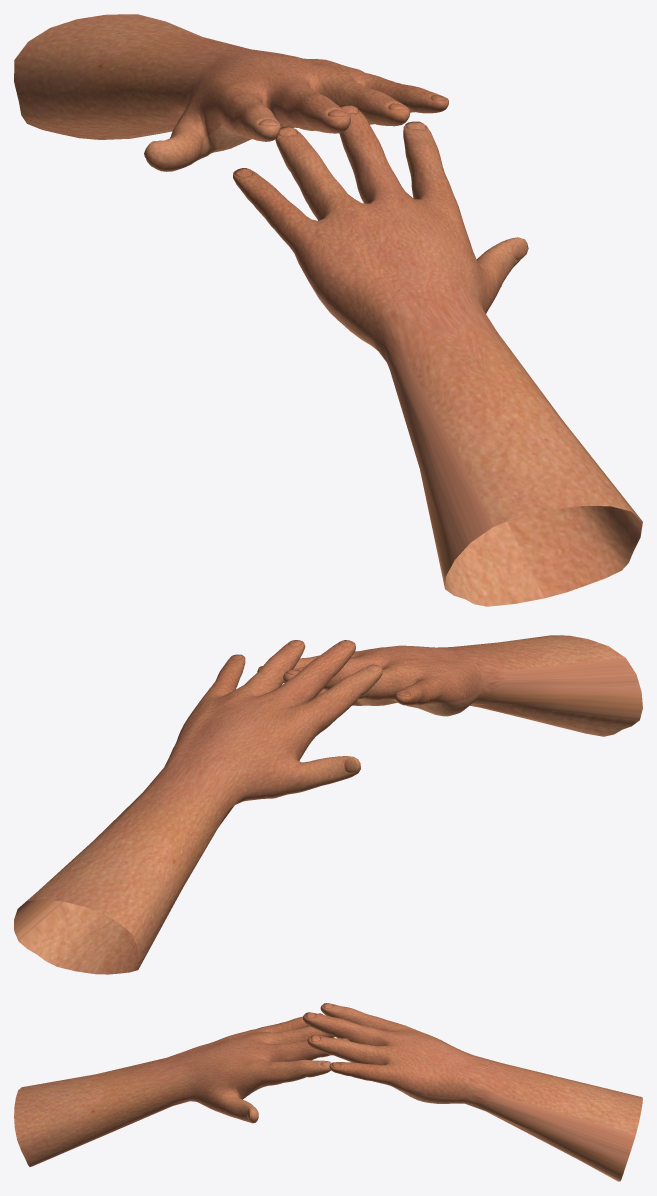
The model's file is hands_000031.obj.
The picture shows the model from 3 angles, top to bottom: view 1: azimuth 30°, elevation 25°; view 2: azimuth 150°, elevation 25°; view 3: azimuth 270°, elevation 25°; orthographic projection. The views are drawn at different scales.
Parts seen in each view (by area): view 1: hand.001_Mesh.001, hand_Mesh; view 2: hand_Mesh, hand.001_Mesh.001; view 3: hand_Mesh, hand.001_Mesh.001.
Boxes of the visible parts, left/top/right/bottom form: hand.001_Mesh.001: left=233, top=105, right=642, bottom=606; hand_Mesh: left=14, top=14, right=448, bottom=171; hand_Mesh: left=14, top=640, right=382, bottom=974; hand.001_Mesh.001: left=257, top=635, right=642, bottom=736; hand_Mesh: left=303, top=1003, right=642, bottom=1181; hand.001_Mesh.001: left=14, top=1013, right=349, bottom=1166.
Bounding box in the file's own units: 1.71 × 1.55 × 5.64.
1 material, 1 textured.
